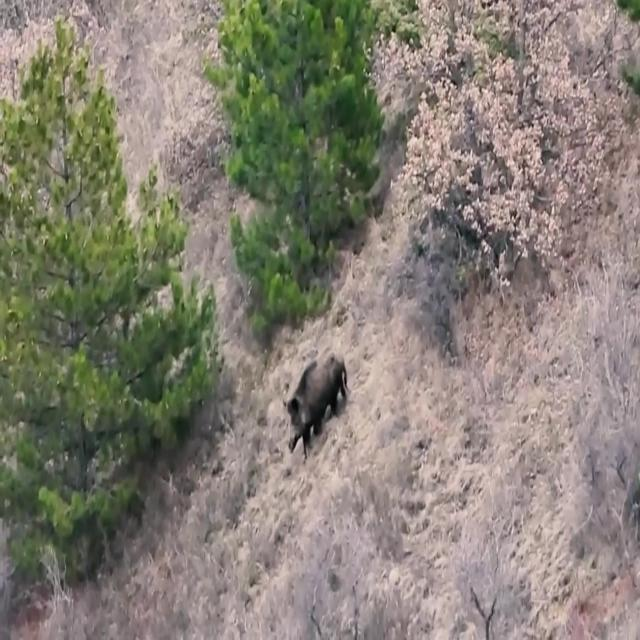pig: (264, 325, 358, 466)
